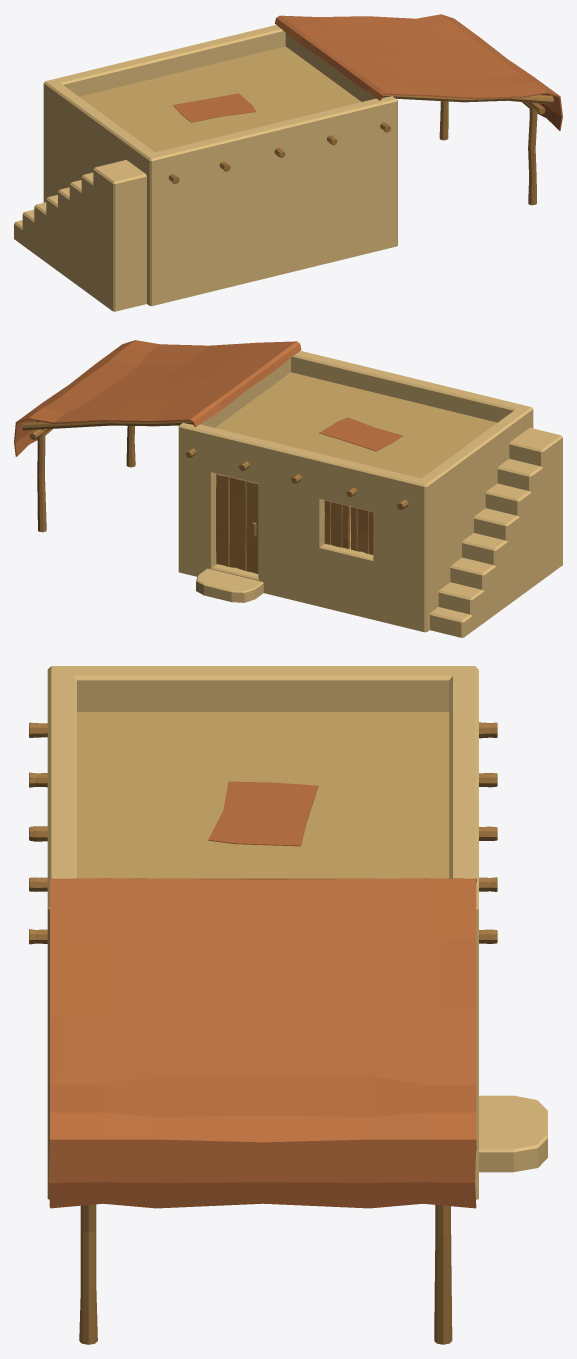
File: House1.fbx
3 views of the same model, one above another, from view 1: azimuth 30°, elevation 25°; view 2: azimuth 150°, elevation 25°; view 3: azimuth 270°, elevation 25° (orthographic). The views are drawn at different scales.
Visible parts, largest first — view 1: House1; view 2: House1; view 3: House1.
Part boxes in pixels (bbox=[...]): House1: bbox=[14, 14, 562, 311]; House1: bbox=[14, 340, 562, 637]; House1: bbox=[29, 666, 547, 1344].
Size of the model in its own units: 1048 by 349 by 529.
